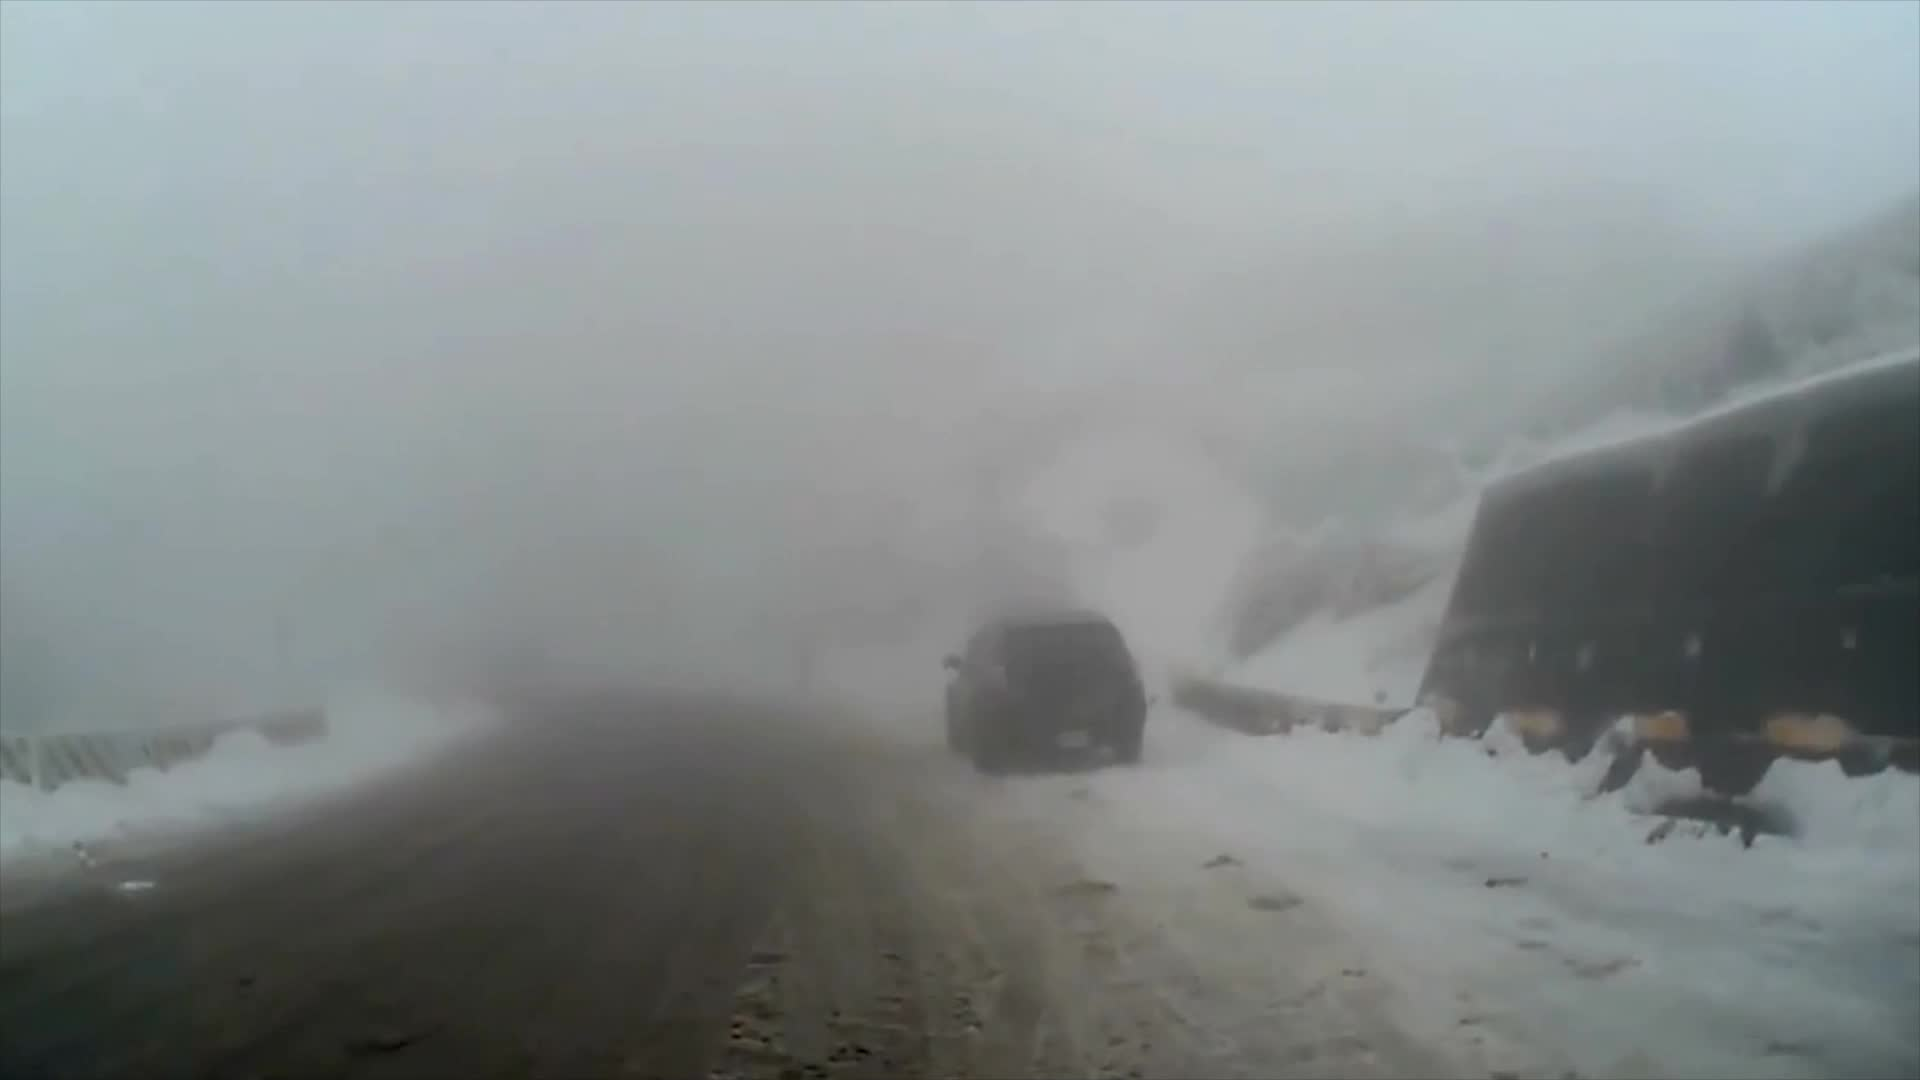vehicle: (940, 607, 1145, 777)
